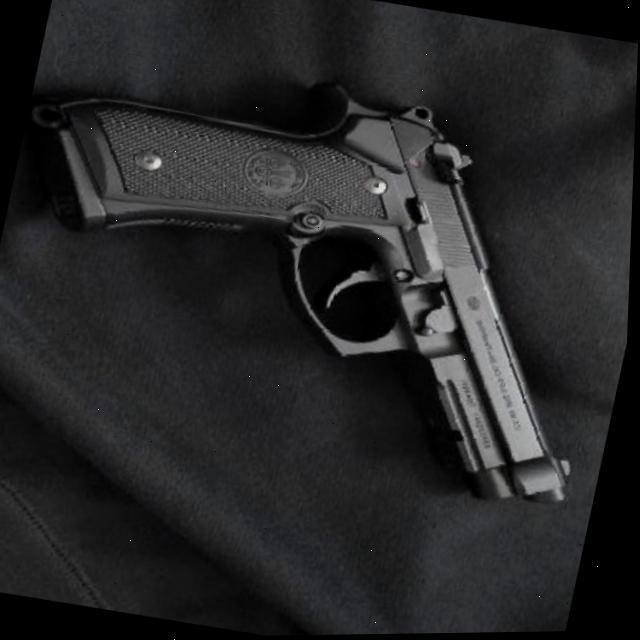gun: (0, 31, 639, 526)
